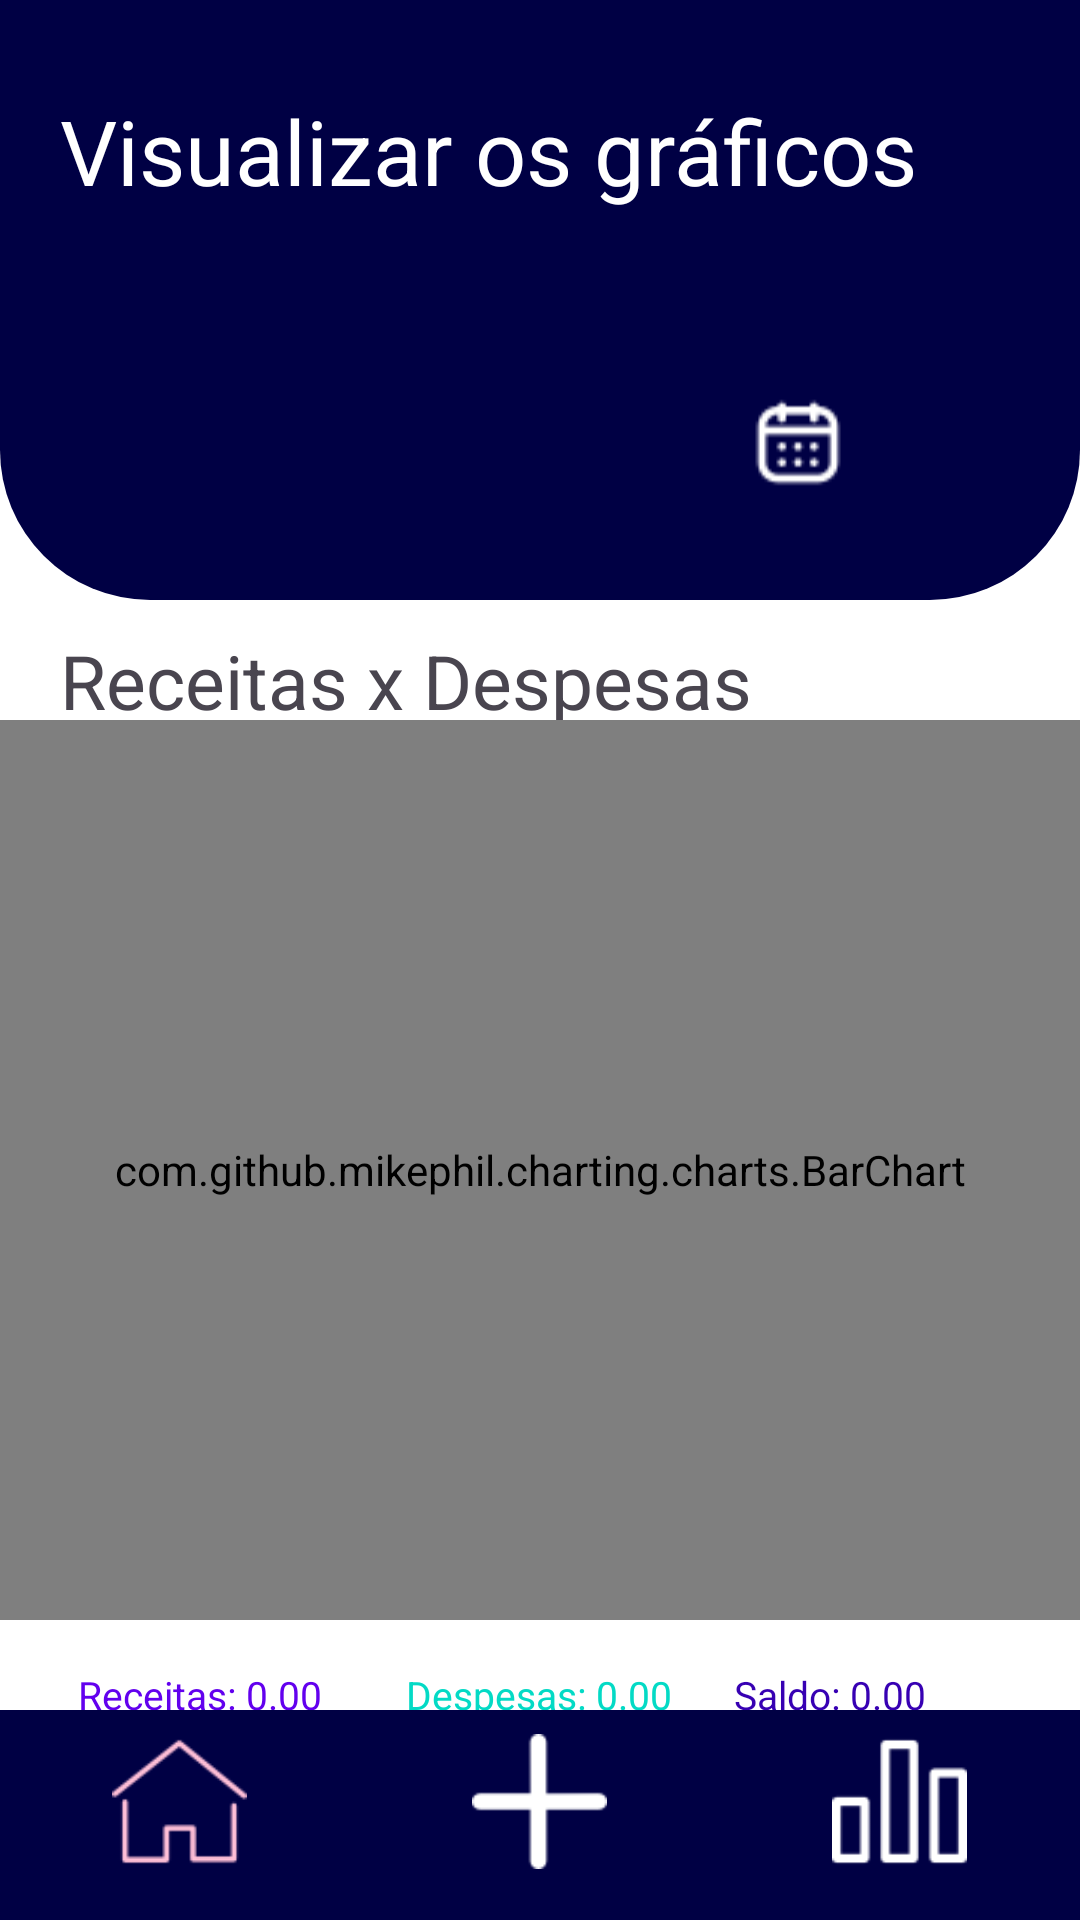

Locate icon controls on the screen. Image size 1080x1920, boxes as (x1, y1, x2, y2).
calendario: (755, 400, 841, 485)
